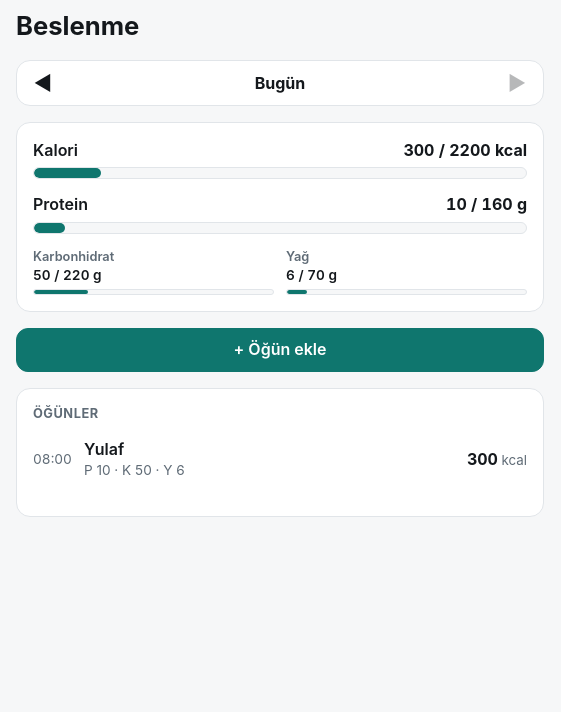
Test: öğüne dokununca düzenlenir; düzenlemede silinebilir
The image size is (561, 712).
Click the button "08:00 Yulaf P 10 · K 50 · Y 6 300 kcal".
click(52, 459)  # box [33,430,527,488]
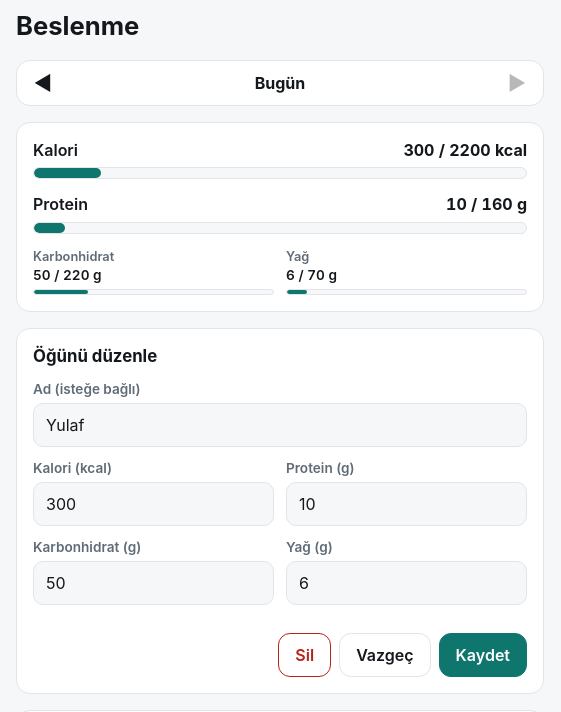
Check: the field labelled "Kalori (kcal)" holds "300"
Replace the text in the field labelled "Kalori (kcal)" with "350" at coordinates (154, 504), box [33,482,274,526]
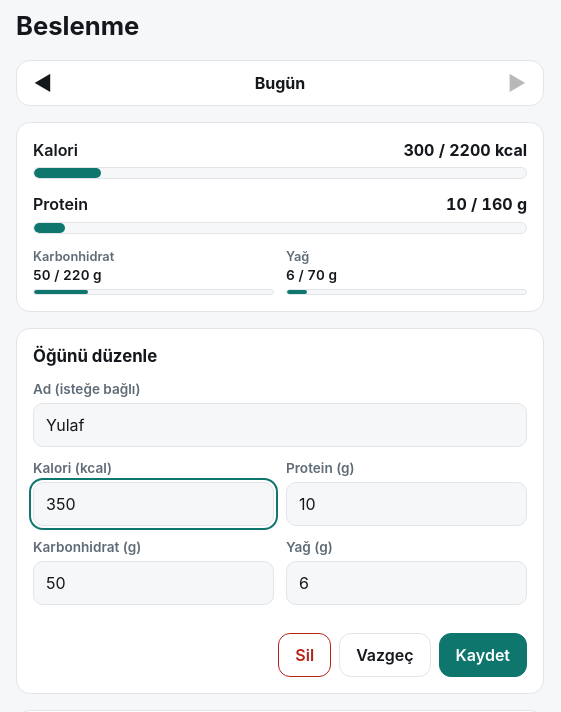
Click the button "Kaydet".
click(483, 655)  # box [439,633,527,677]
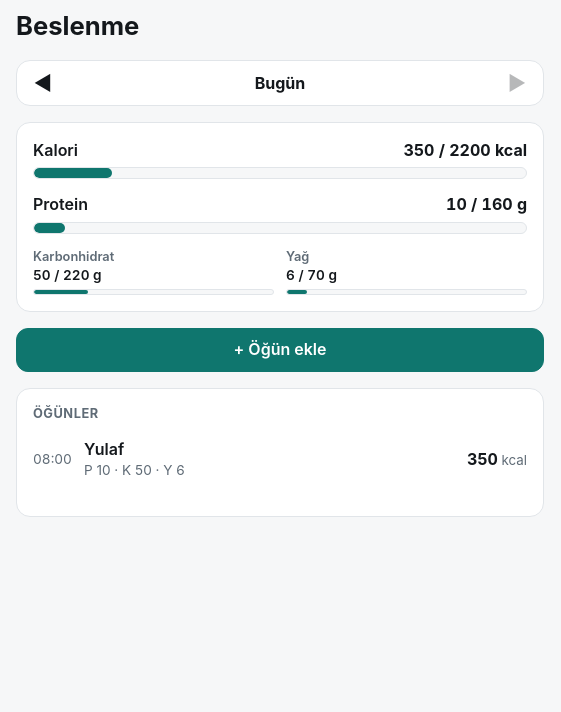
Check: the text "350 / 2200 kcal" is shown, box [403,139,527,161]
Click the button "08:00 Yulaf P 10 · K 50 · Y 6 350 kcal".
click(52, 459)  # box [33,430,527,488]
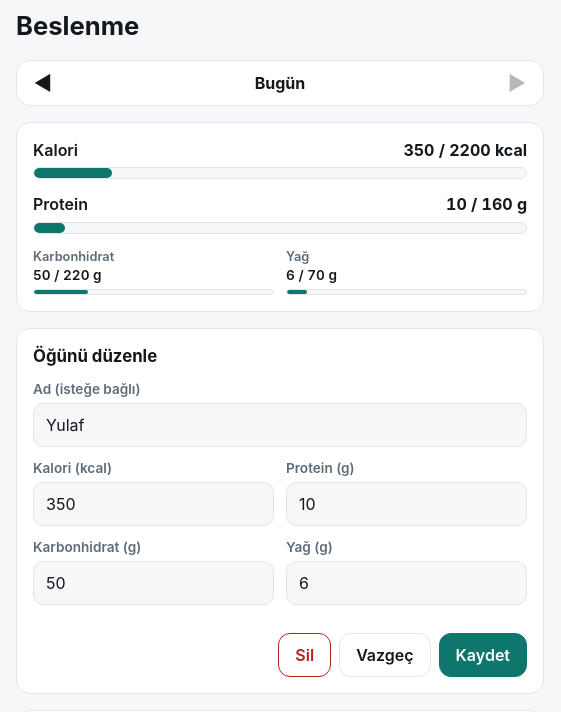
Click the button "Sil".
click(305, 655)  # box [278,633,331,677]
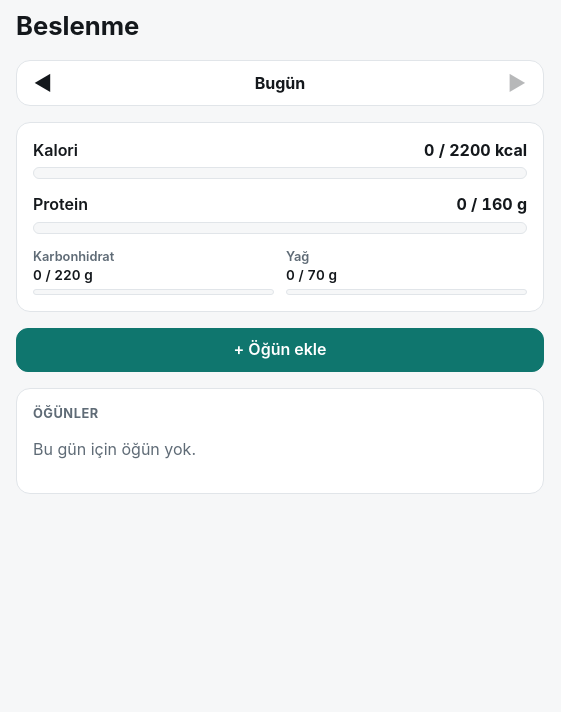
Check: the text "Bu gün için öğün yok." is shown, box [33,440,196,460]
